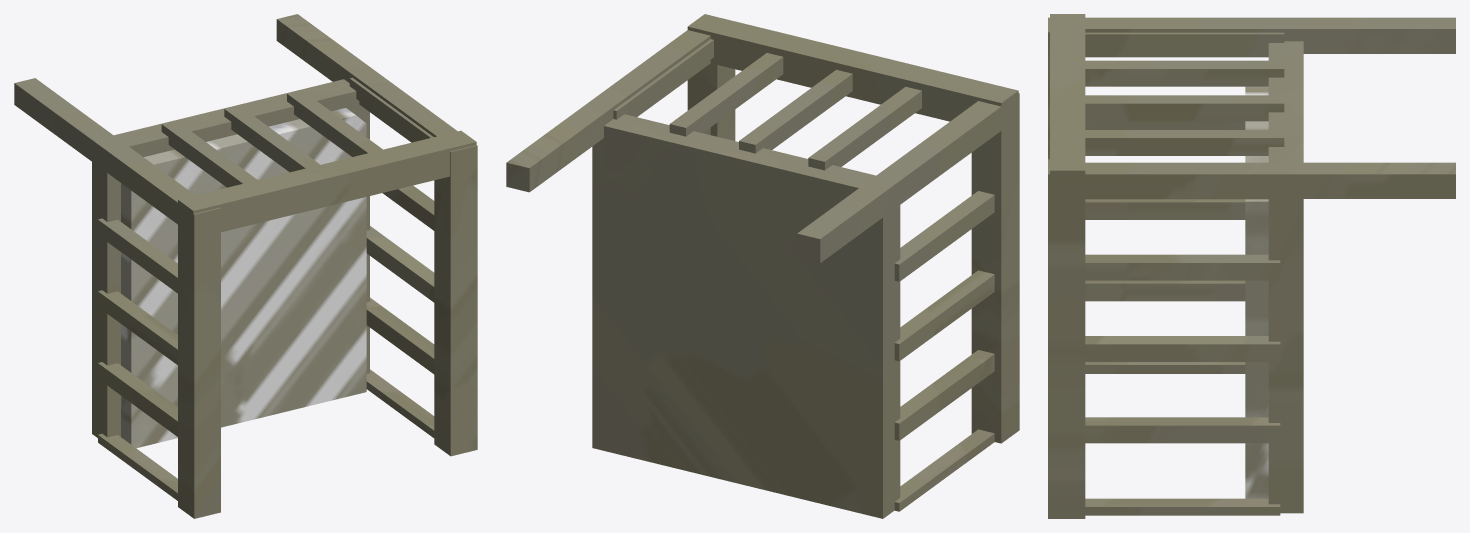
Rendered from pz_bed_bedding_01_light_wood_0_1.obj.
The picture shows the model from 3 angles, left to right: view 1: azimuth 30°, elevation 25°; view 2: azimuth 150°, elevation 25°; view 3: azimuth 270°, elevation 25°; orthographic projection. The views are drawn at different scales.
Parts seen in each view (by area): view 1: root; view 2: root; view 3: root.
Part boxes in pixels (x1=…): root: x1=14, y1=14, x2=477, y2=518; root: x1=506, y1=14, x2=1019, y2=518; root: x1=1048, y1=14, x2=1455, y2=518.
Size of the model in its own units: 0.95 by 0.985 by 1.04.
Materials: 1 (1 with a texture image).
